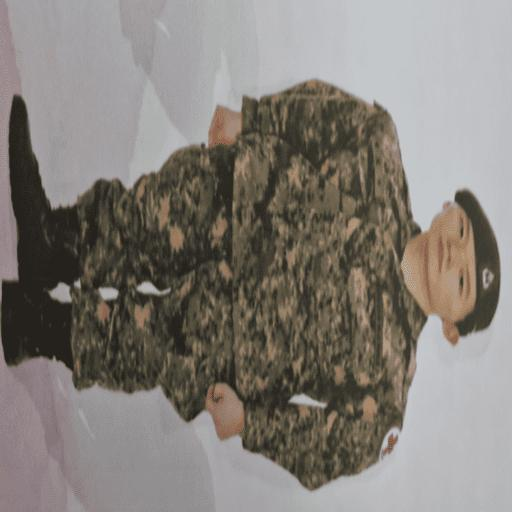korea army: (68, 82, 419, 492)
